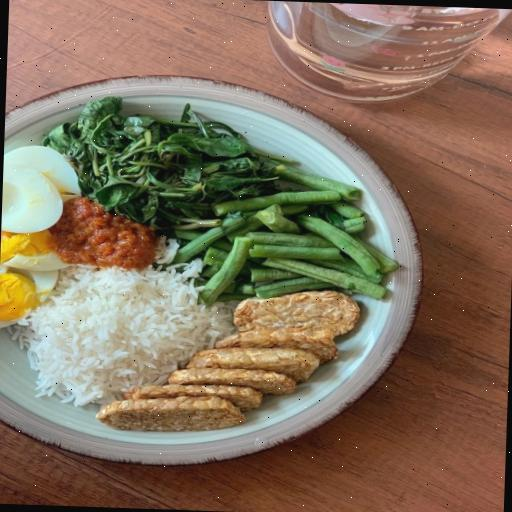buncis_rebus: (208, 160, 410, 305)
nasi_putih: (46, 262, 216, 382)
tempe_goreng: (225, 286, 375, 353)
